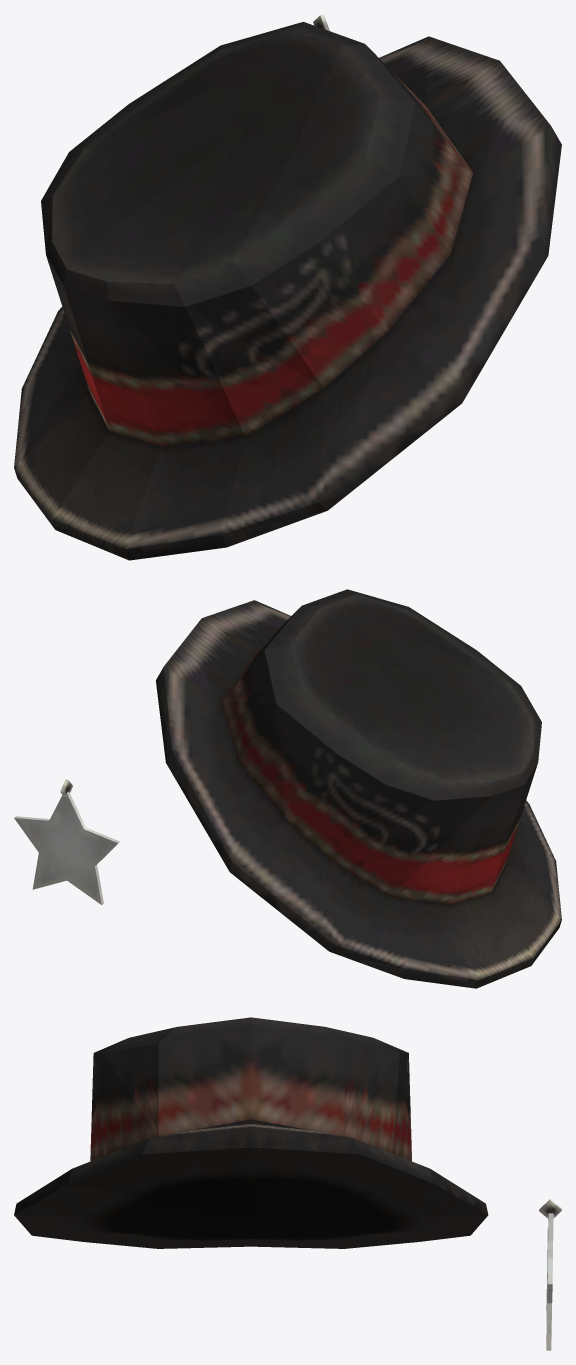
File: Wolf_superStarHat.obj
3 views of the same model, one above another, from view 1: azimuth 30°, elevation 25°; view 2: azimuth 150°, elevation 25°; view 3: azimuth 270°, elevation 25° (orthographic). The views are drawn at different scales.
Parts seen in each view (by area): view 1: Wolf_superStarHat_tri; view 2: Wolf_superStarHat_tri; view 3: Wolf_superStarHat_tri.
Boxes of the visible parts, x1,y1,x2,y2 form: Wolf_superStarHat_tri: (14, 14, 561, 560); Wolf_superStarHat_tri: (14, 589, 561, 988); Wolf_superStarHat_tri: (14, 1017, 561, 1350).
Size of the model in its own units: 0.3074 by 0.2345 by 0.3379.
Materials: 1 (1 with a texture image).
